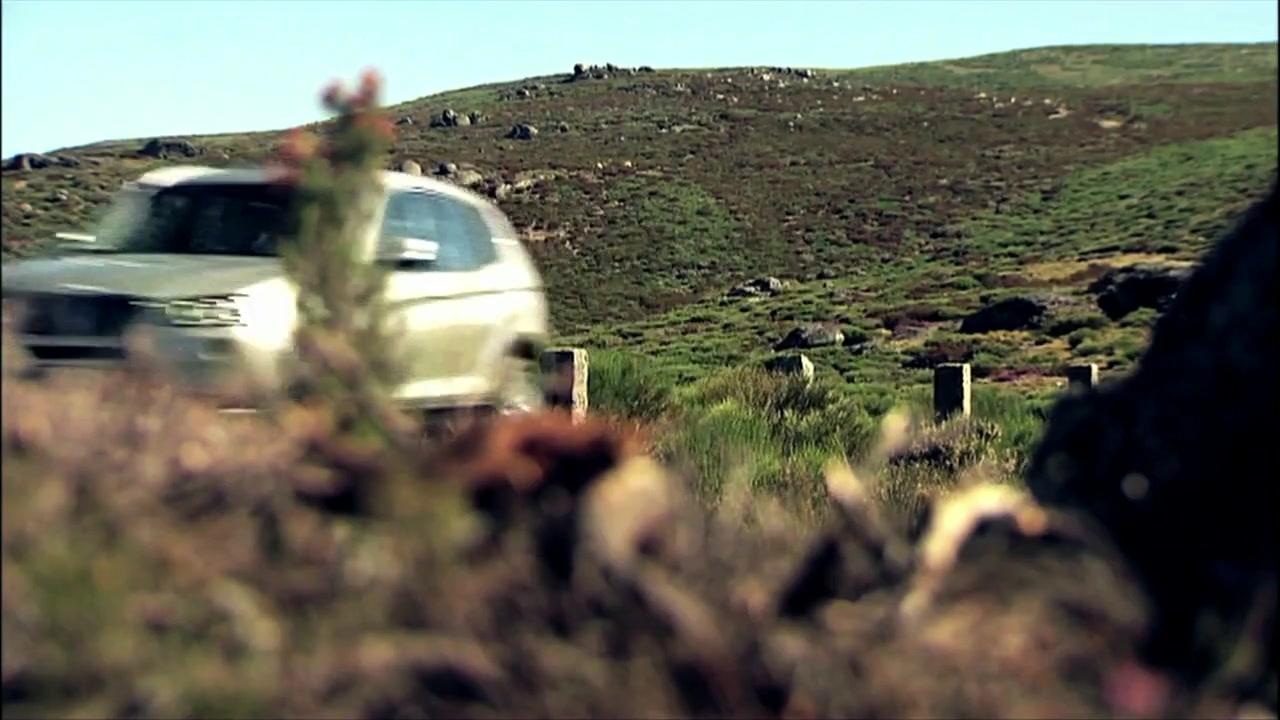car: (5, 159, 556, 440)
